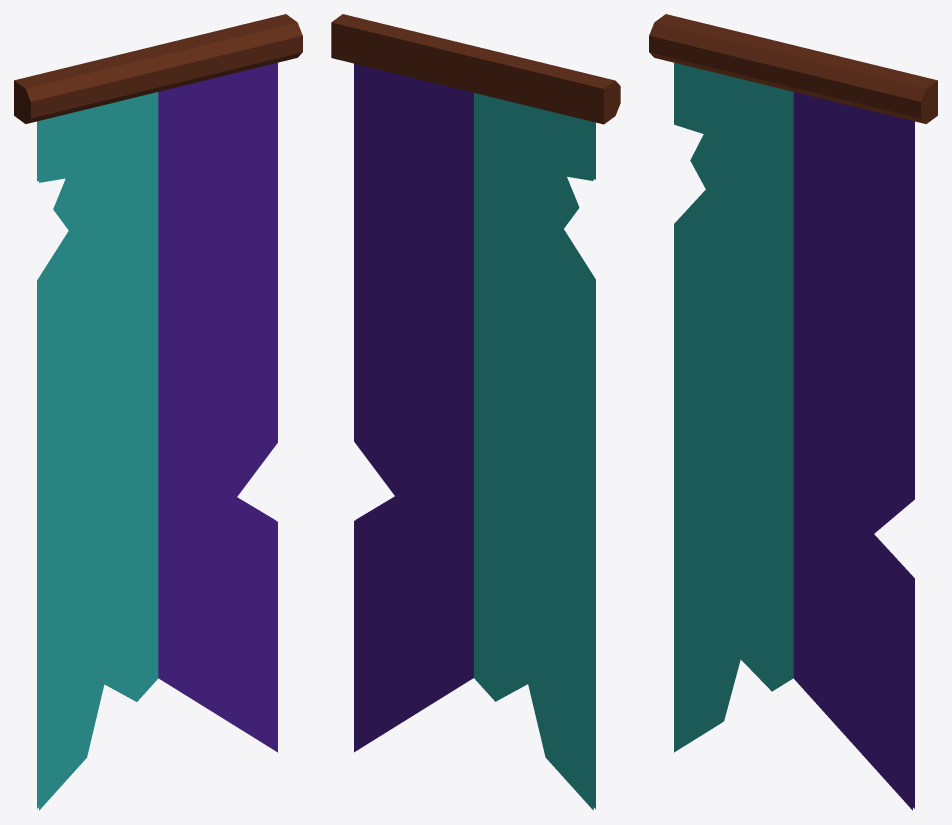
File: Flag 01 Cyan Purple.FBX
3 renders of one model, left to right at view 1: azimuth 30°, elevation 25°; view 2: azimuth 150°, elevation 25°; view 3: azimuth 330°, elevation 25°, orthographic.
Parts seen in each view (by area): view 1: Flag 01 Cyan Purple; view 2: Flag 01 Cyan Purple; view 3: Flag 01 Cyan Purple.
Boxes of the visible parts, <box> form: Flag 01 Cyan Purple: <box>14,14,302,810</box>; Flag 01 Cyan Purple: <box>331,14,620,810</box>; Flag 01 Cyan Purple: <box>649,14,937,810</box>.
Size of the model in its own units: 108 by 277 by 11.5.
Materials: 1 (1 with a texture image).
